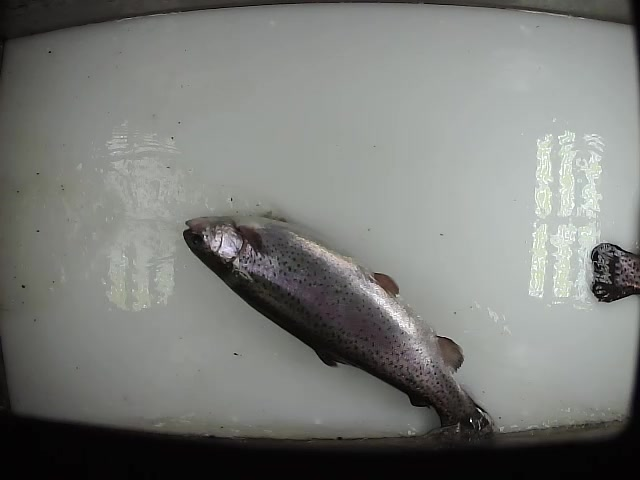fish: (179, 209, 495, 443)
